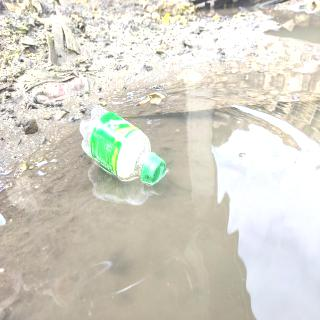bottle: (78, 102, 168, 188)
